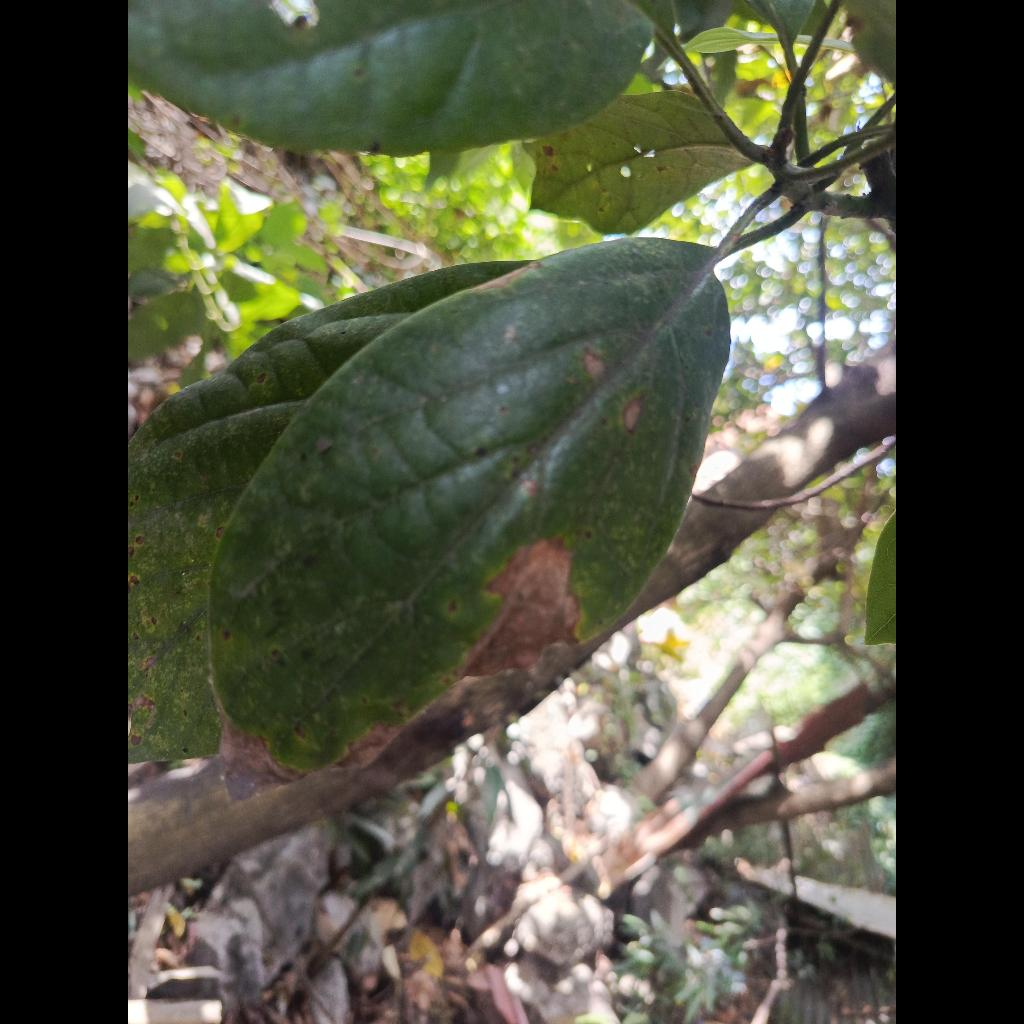Anthracnose: (209, 239, 729, 770)
